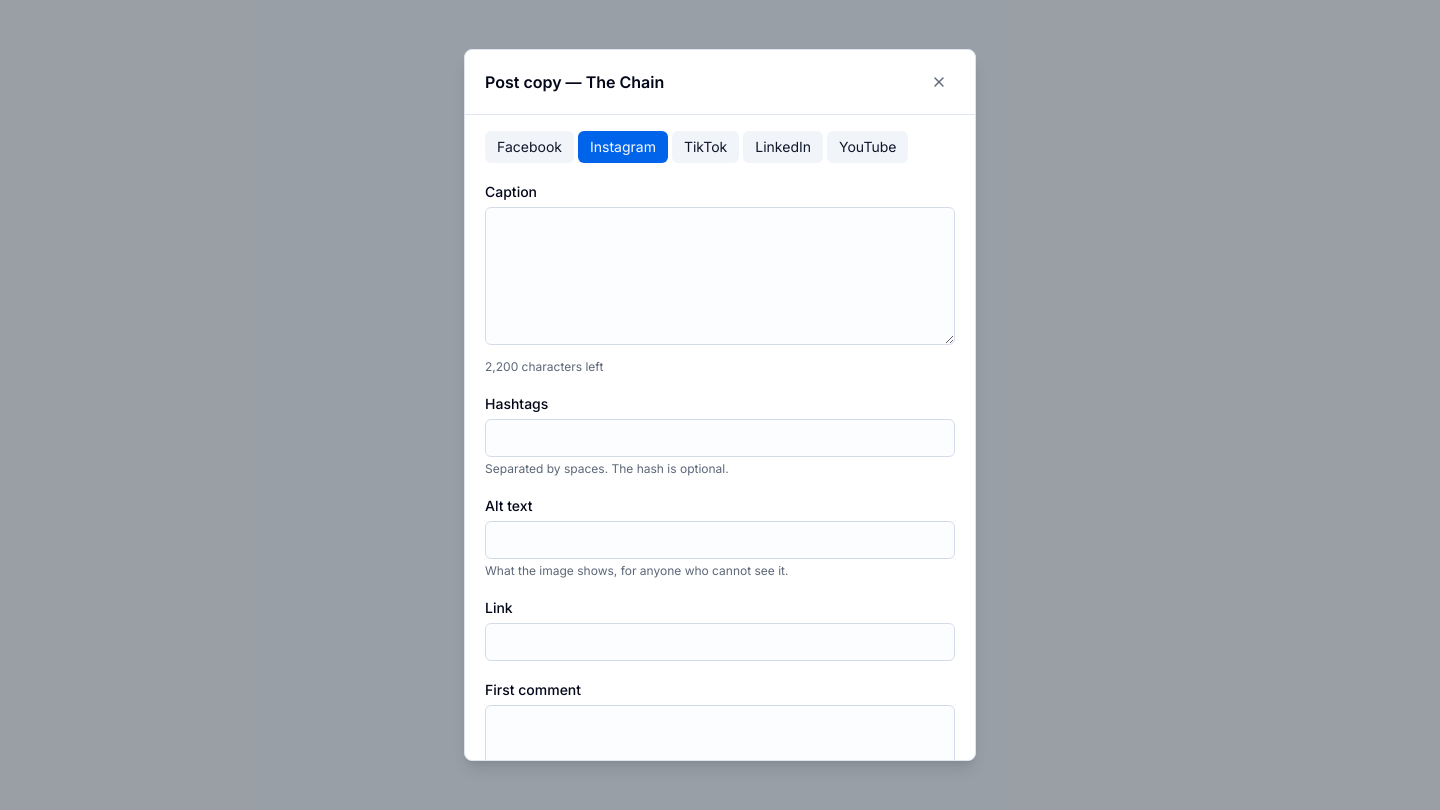
Test: the copy editor › surfaces a refusal from the database rather than looking saved
The width and height of the screenshot is (1440, 810).
In the text box labelled "Caption": (720, 276) left=485, top=207, right=955, bottom=345, type "Words"
(page scrolled)
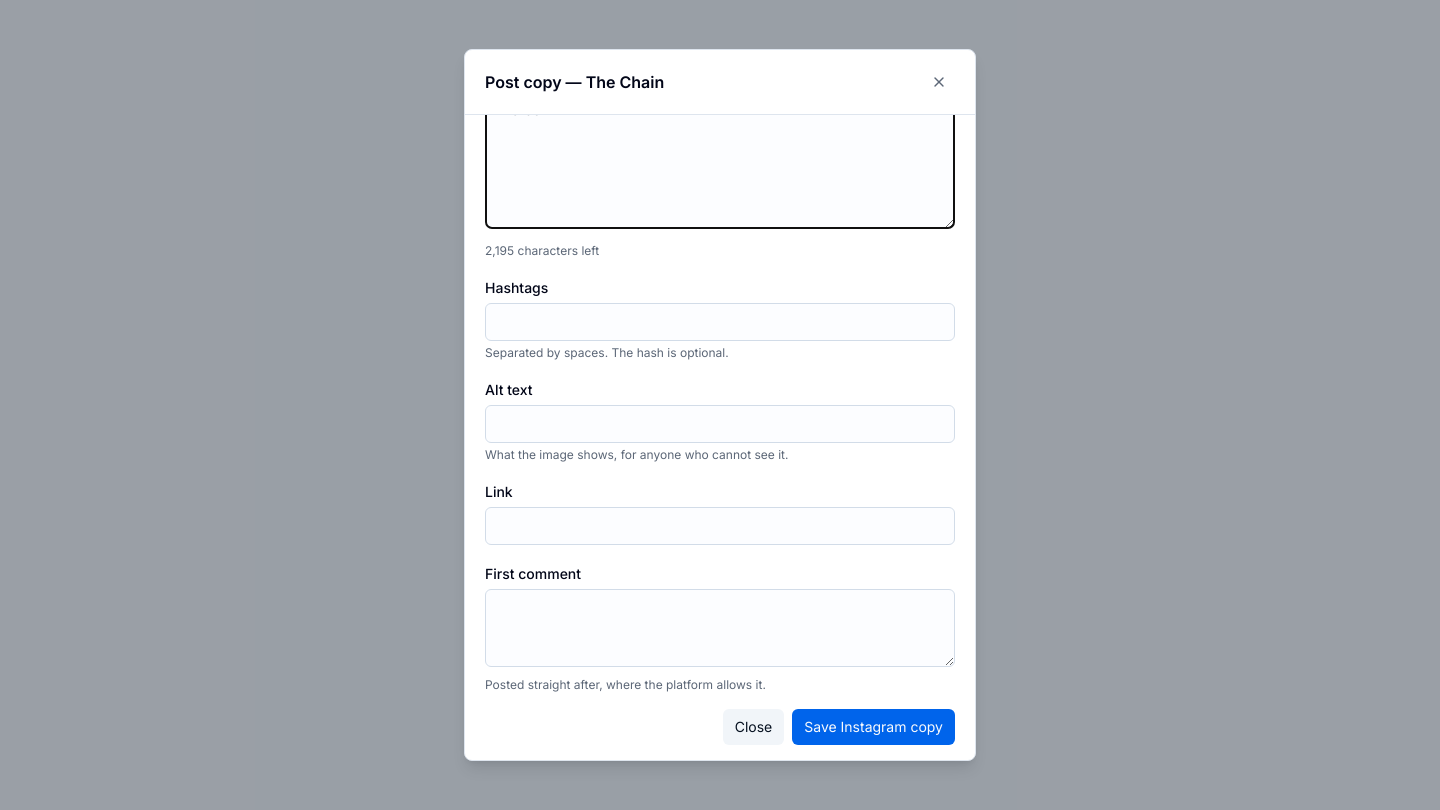
Click the button "Save Instagram copy": (874, 727) left=792, top=709, right=955, bottom=745
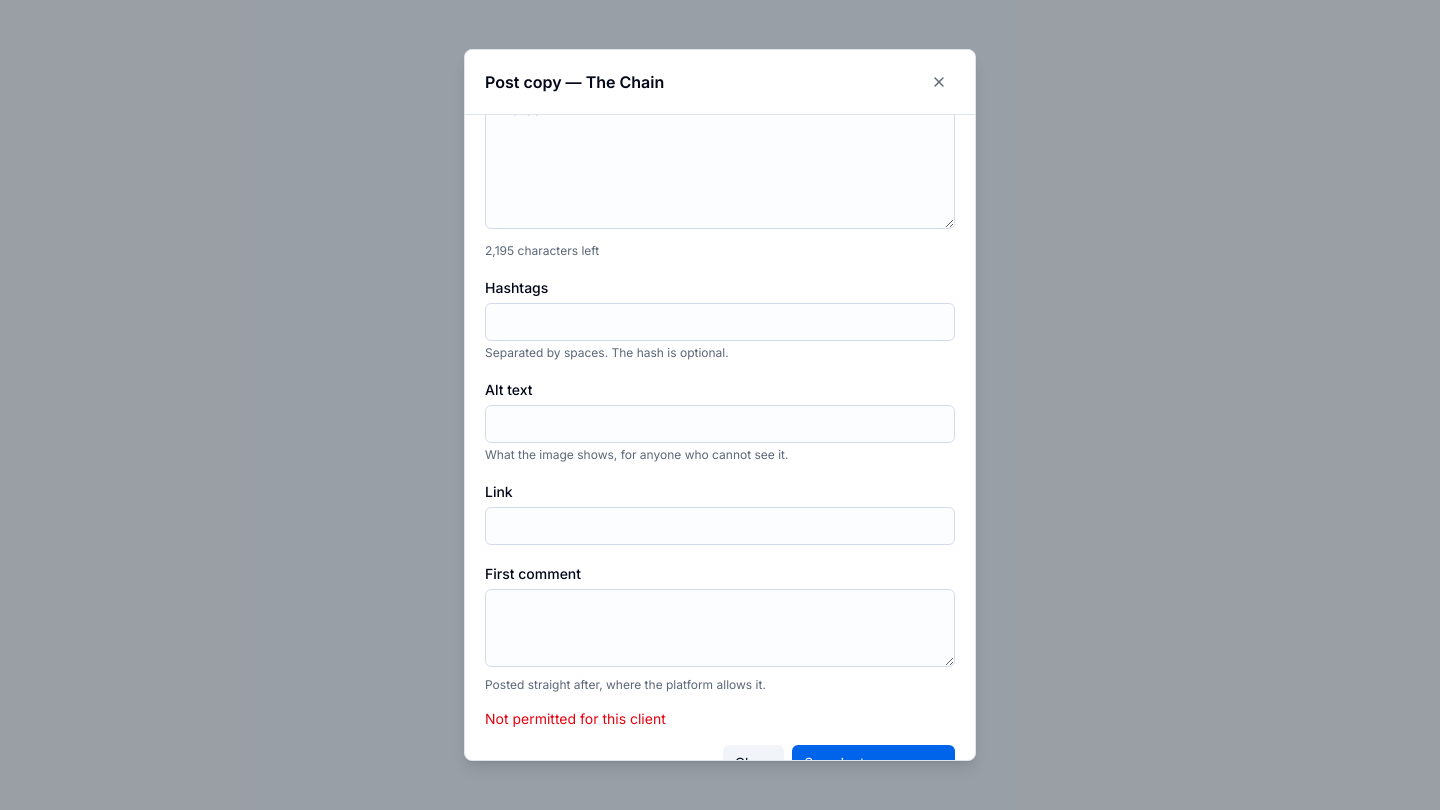
Now the message shows "Not permitted", box left=485, top=710, right=666, bottom=727
